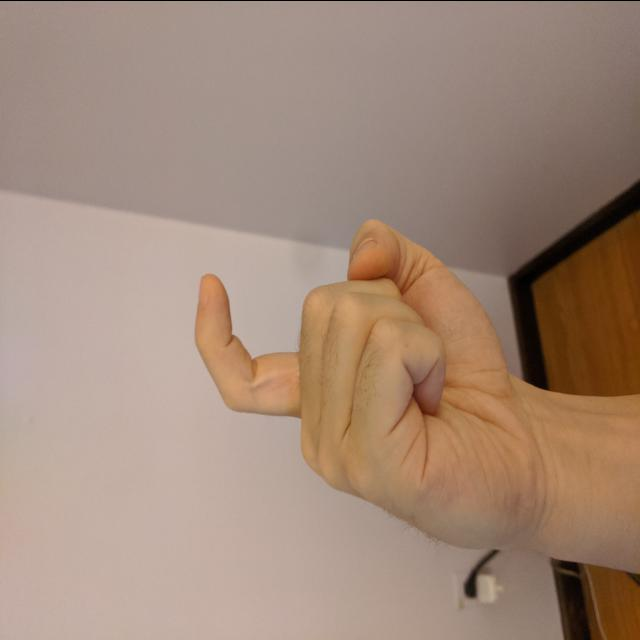X: (192, 212, 538, 568)
